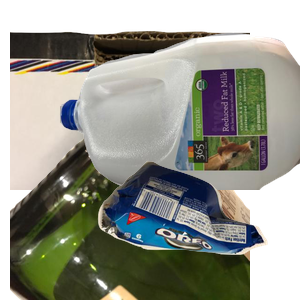cardboard: (10, 29, 250, 209)
glass: (10, 120, 250, 300)
plastic: (60, 30, 300, 210)
trash: (95, 158, 300, 300)
